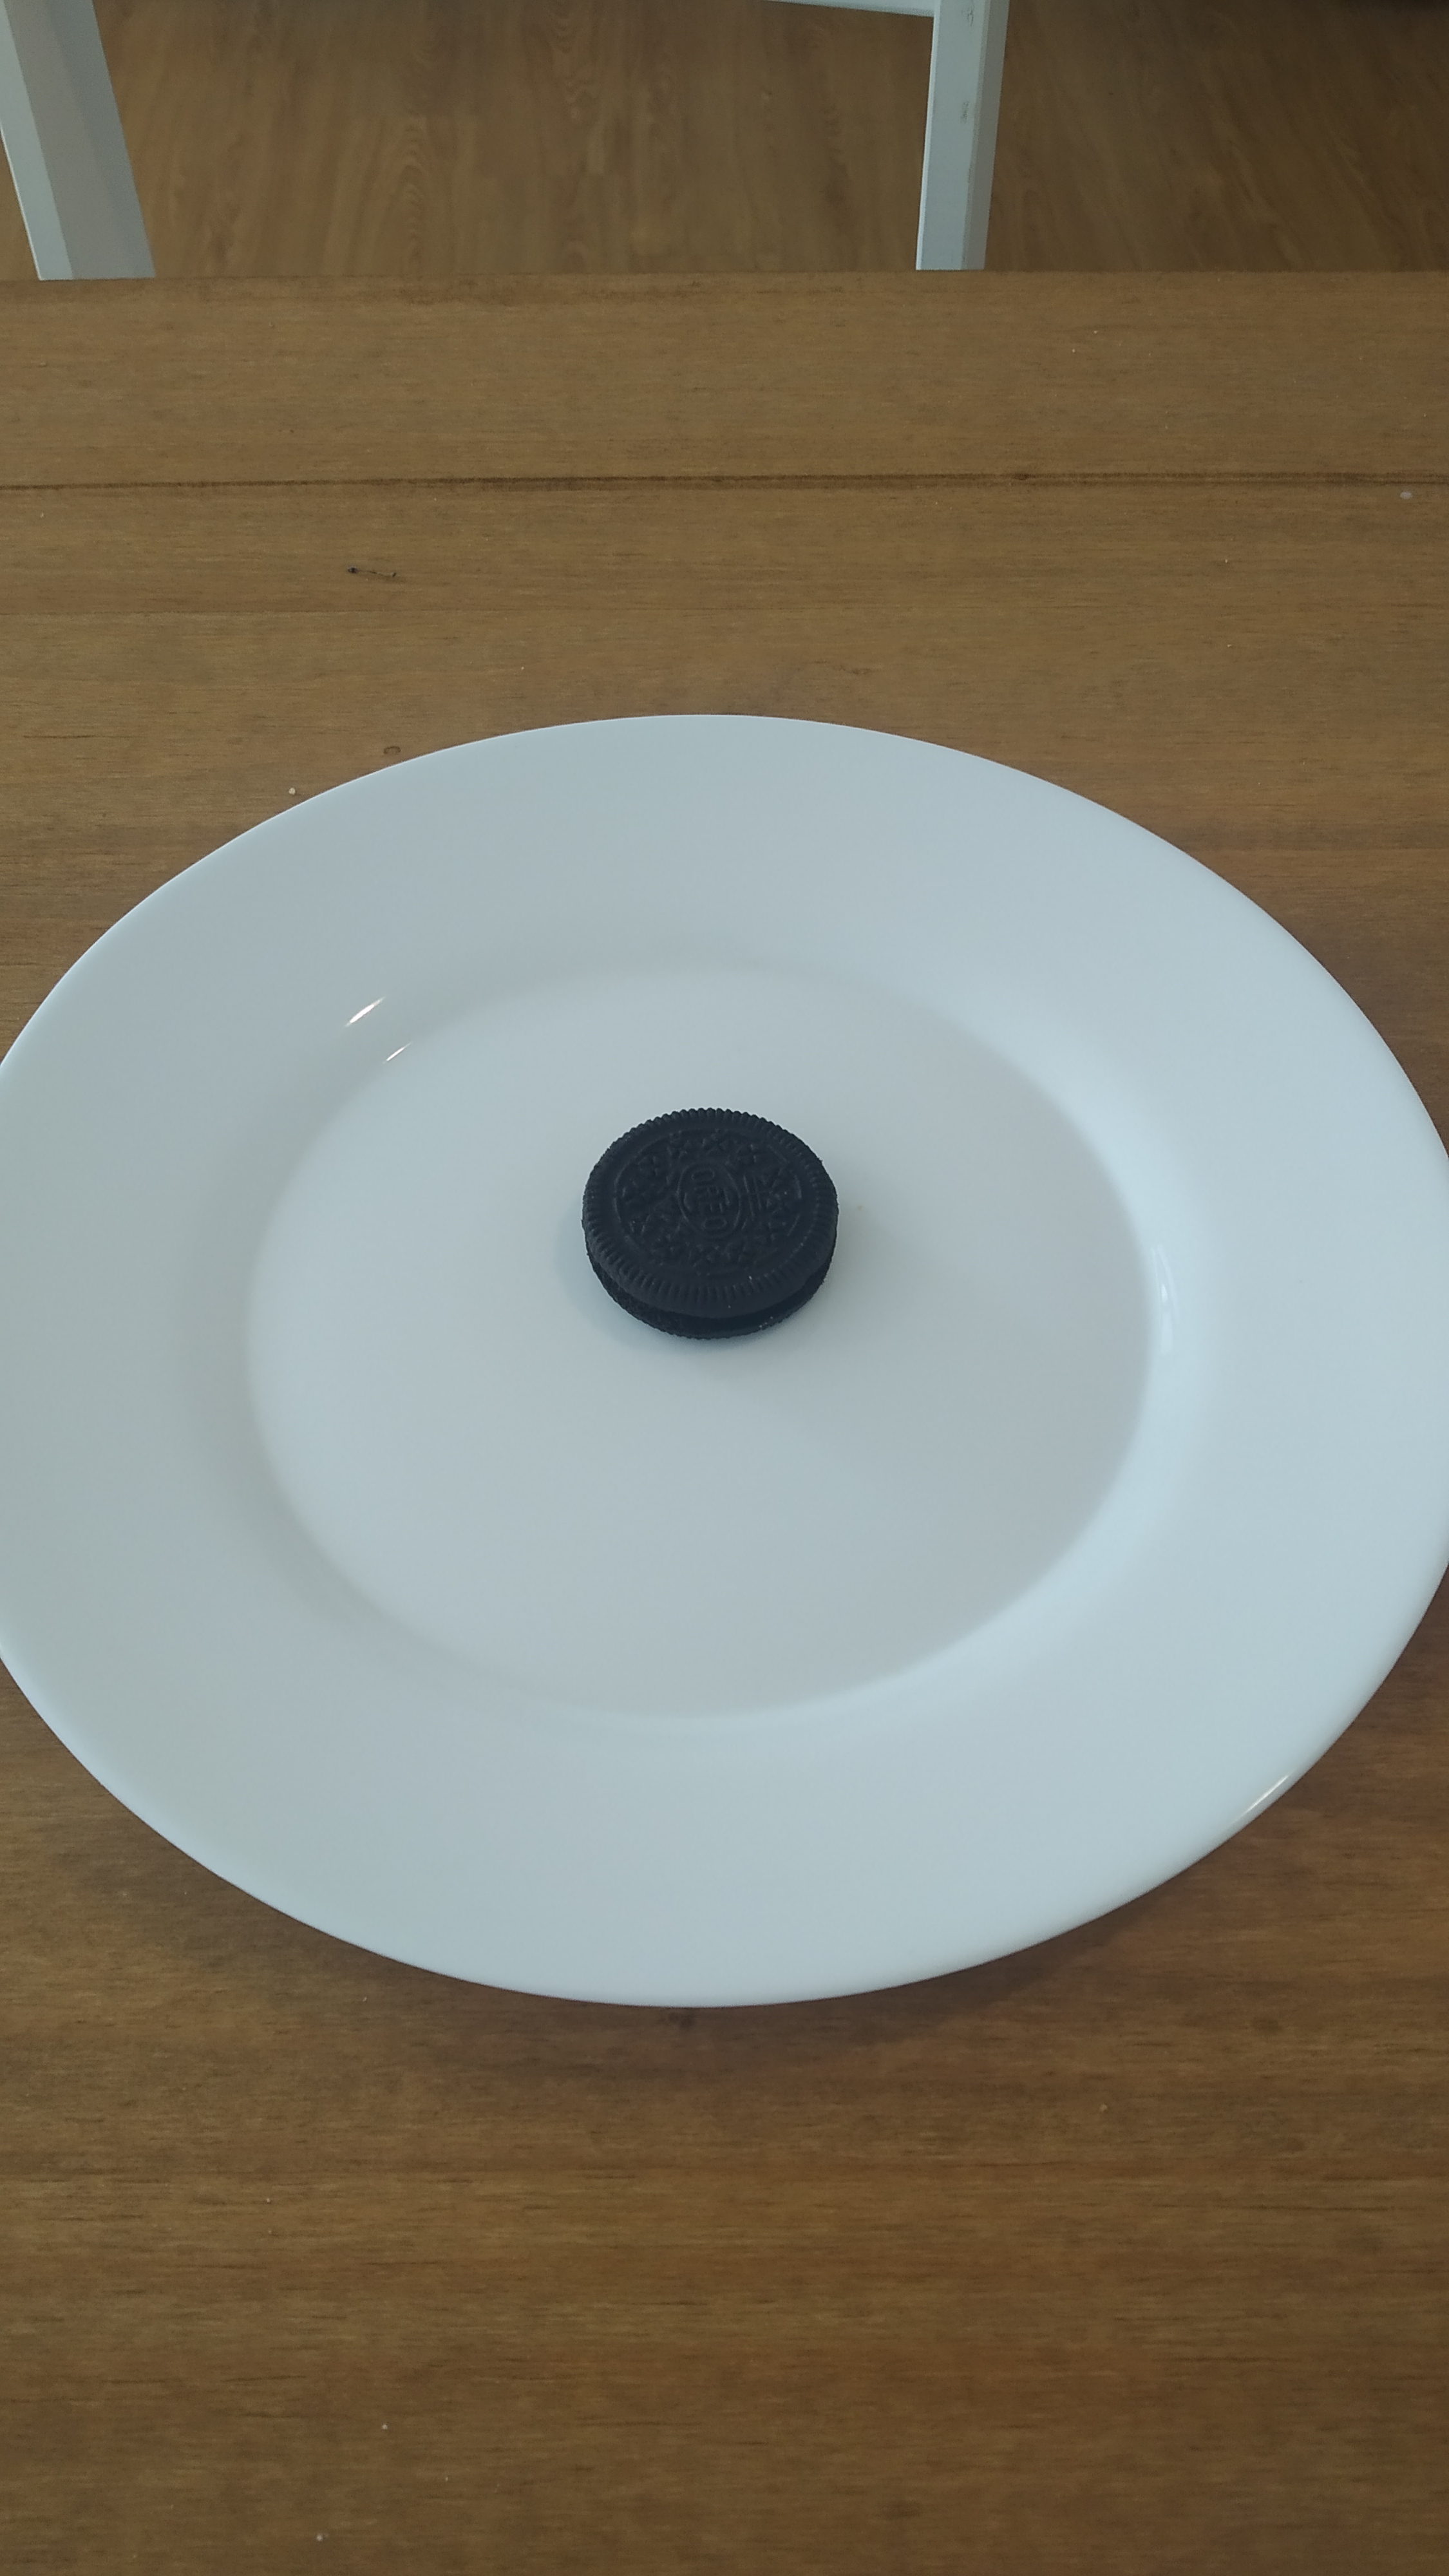oreo: (582, 1109, 840, 1343)
